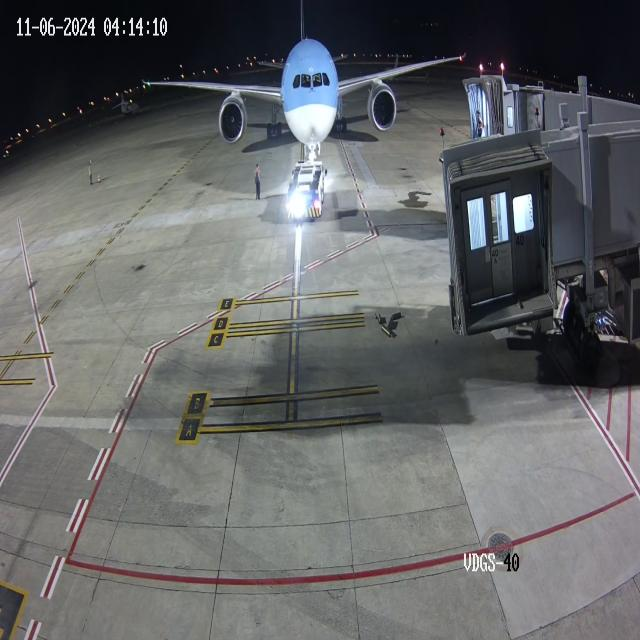bridge: (490, 74, 545, 144)
plane: (121, 5, 444, 153)
window: (284, 64, 333, 100)
